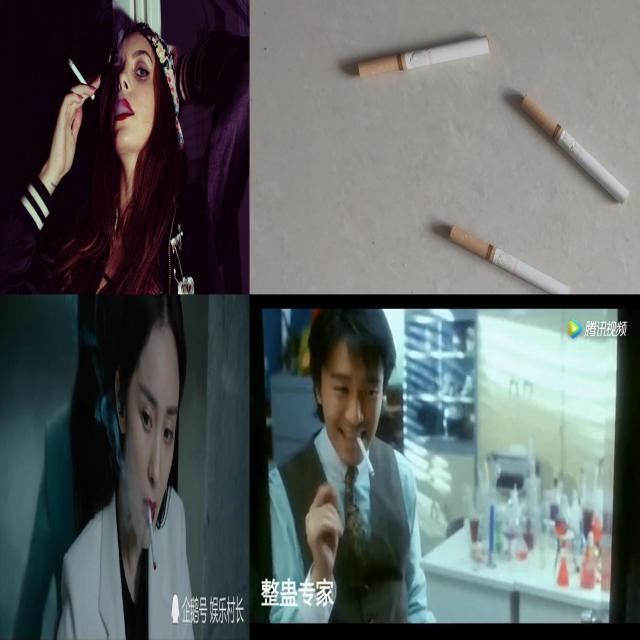smoking: (522, 92, 632, 205), (448, 226, 572, 294), (357, 34, 492, 80), (66, 55, 96, 101), (356, 434, 376, 482), (146, 499, 158, 574)
